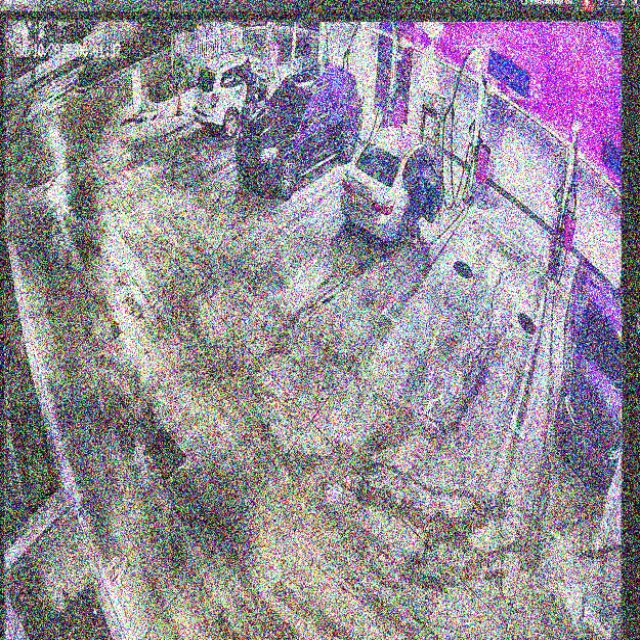Car: (237, 61, 361, 202), (341, 128, 444, 244)
